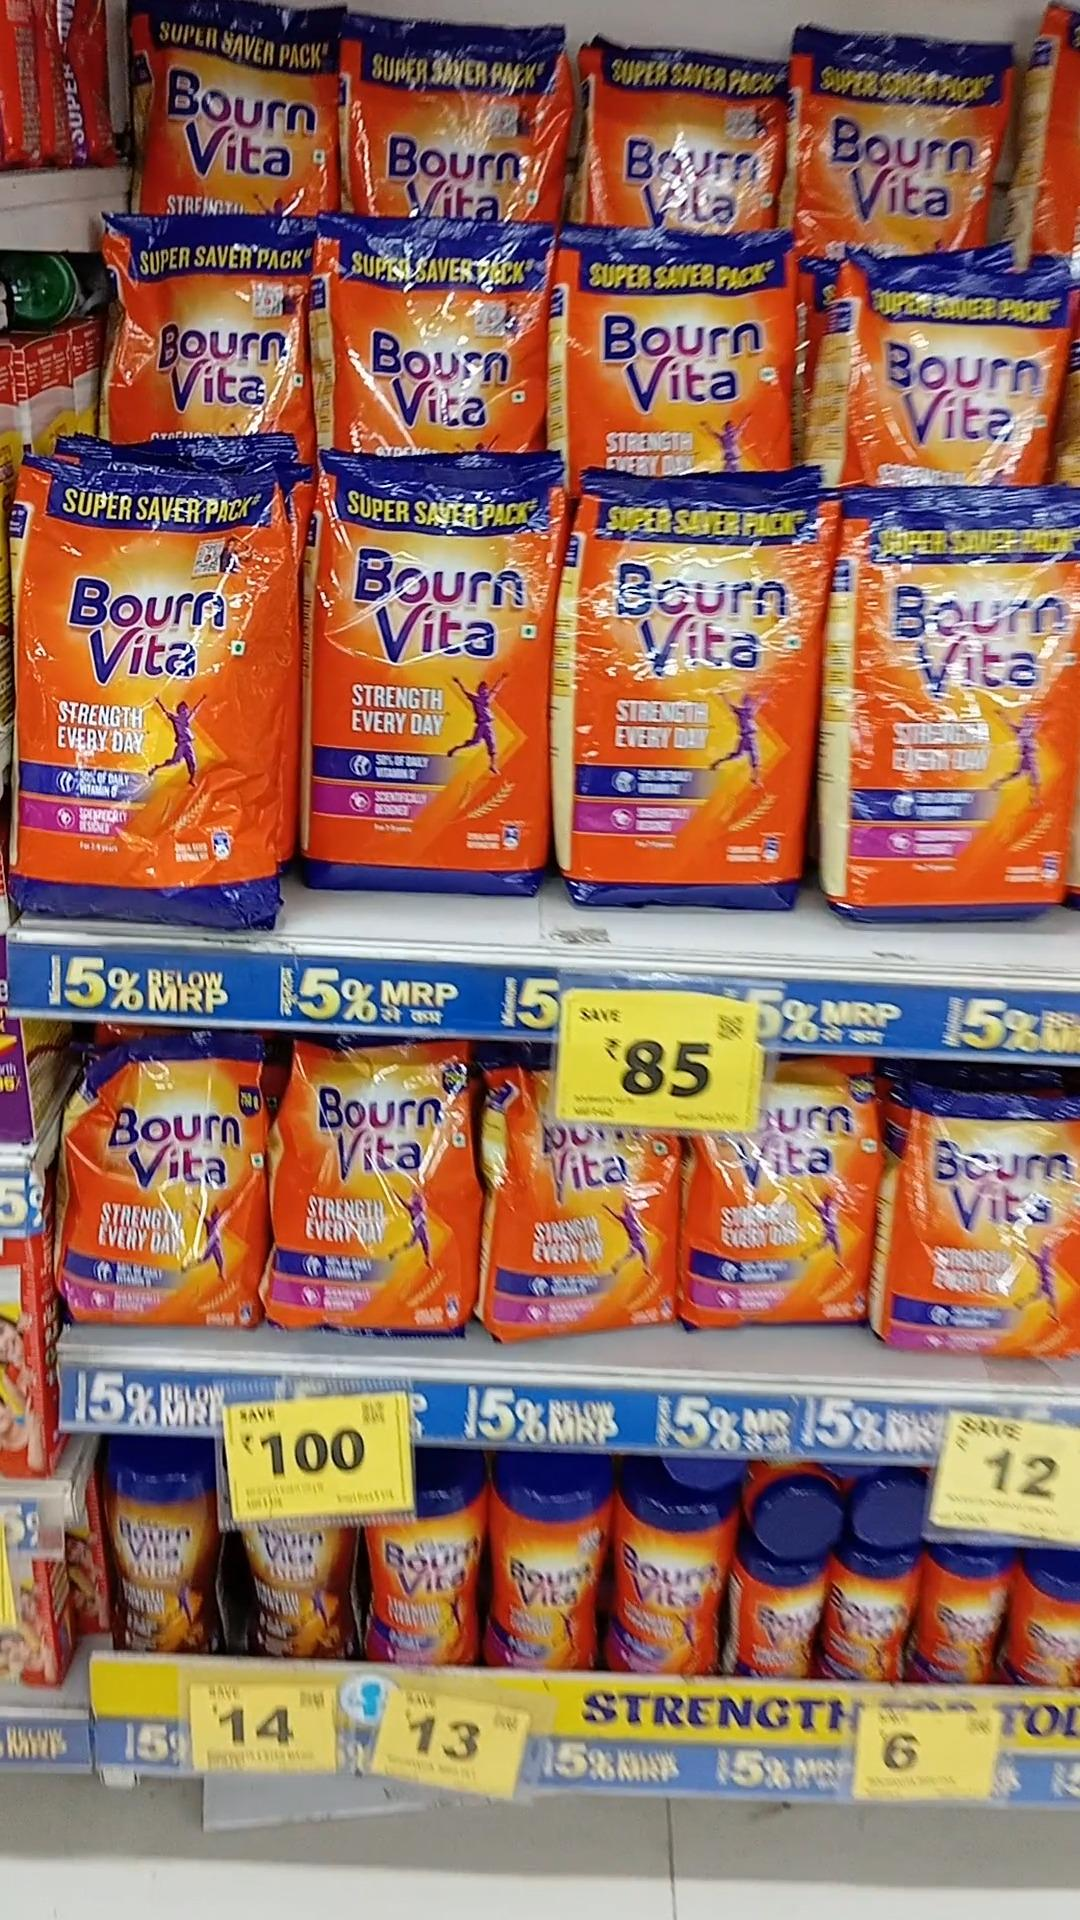BOURN_VITA_200_G_JAR: (919, 1543, 1002, 1688), (833, 1544, 913, 1685), (745, 1555, 825, 1685)
BOURN_VITA_500_G_JAR: (371, 1476, 489, 1669), (498, 1474, 609, 1675), (617, 1485, 728, 1676)
BOURN_VITA_750_G_POUCH: (282, 1042, 468, 1329), (73, 1044, 258, 1329), (907, 1084, 1080, 1350), (508, 1096, 678, 1340), (729, 1072, 881, 1327)
BOURN_VITA_FIVE_STAR_MAGIC_500_G_JAR: (107, 1451, 198, 1656), (245, 1520, 348, 1660)
